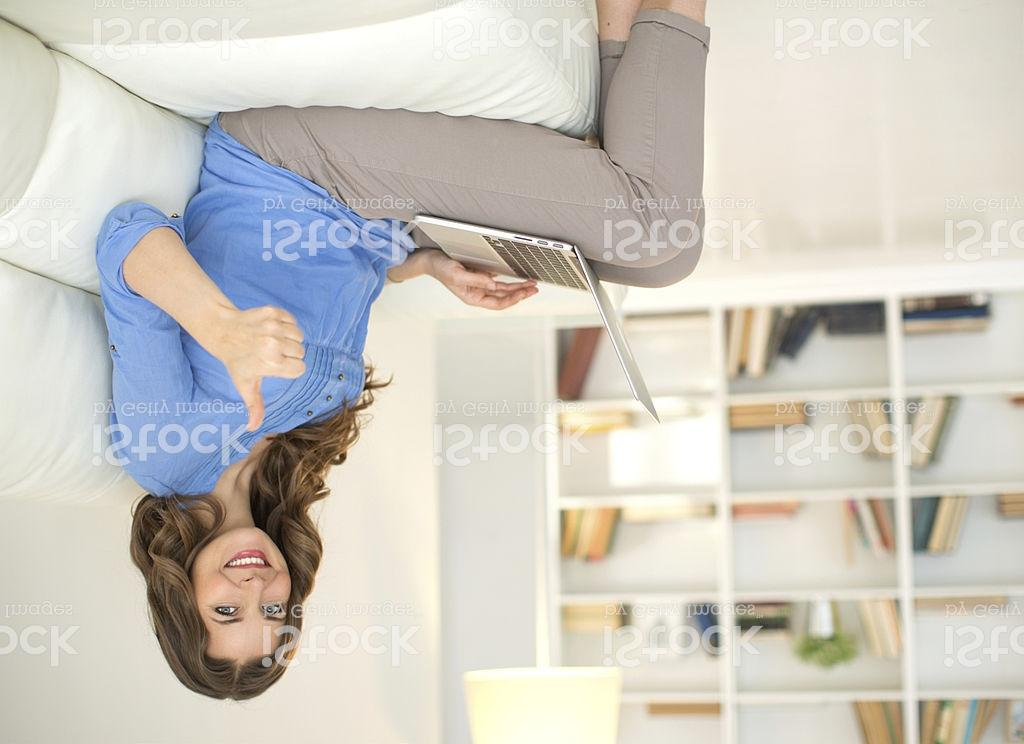thumbsdown: (222, 304, 307, 433)
